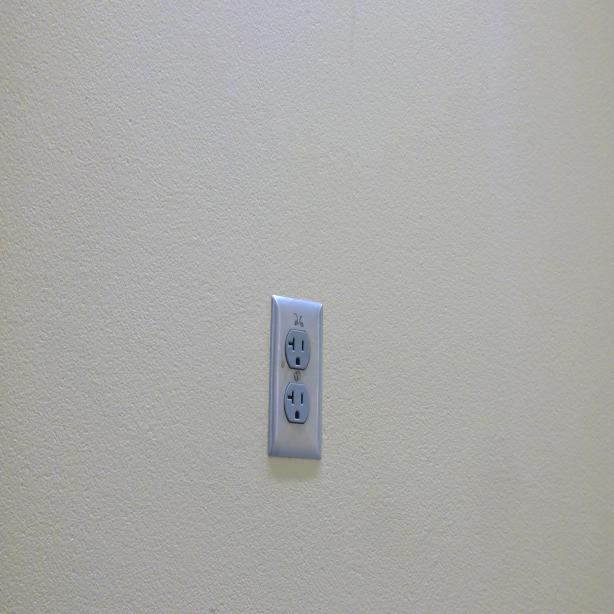typeb: (285, 327, 311, 375), (285, 382, 309, 422)
